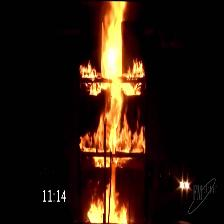fire: (86, 2, 137, 224)
